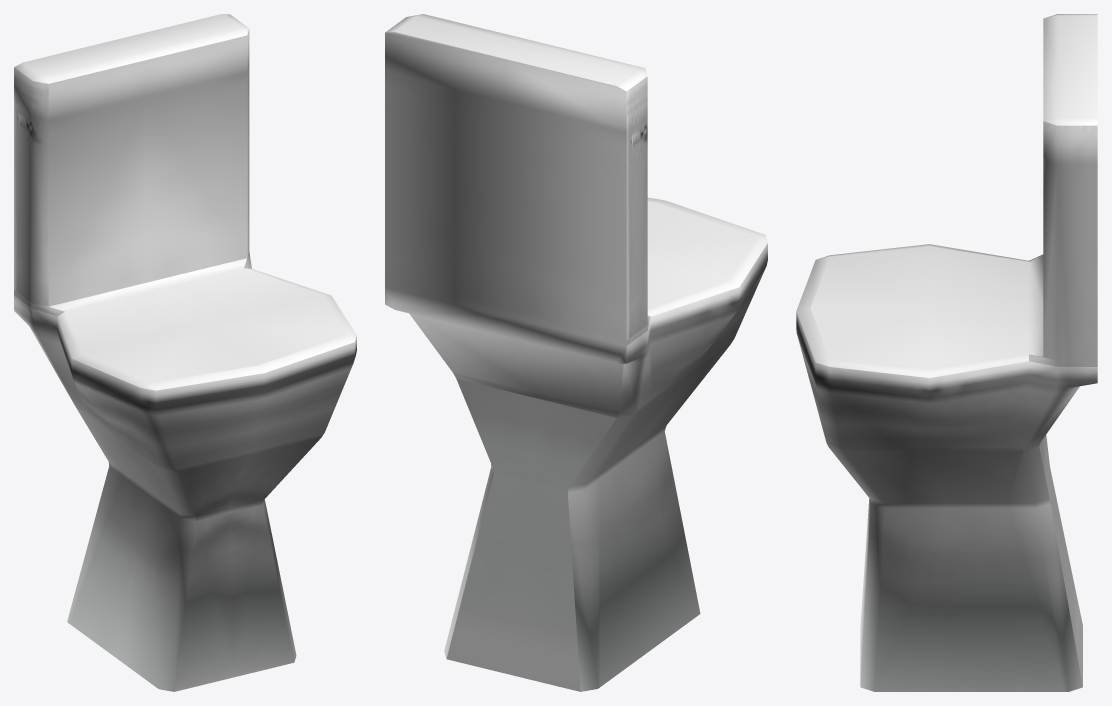
The model's file is toilet.glb.
3 renders of one model, left to right at view 1: azimuth 30°, elevation 25°; view 2: azimuth 150°, elevation 25°; view 3: azimuth 270°, elevation 25°, orthographic. The views are drawn at different scales.
Parts seen in each view (by area): view 1: Toilet; view 2: Toilet; view 3: Toilet.
Part boxes in pixels (x1,y1,x2,y2): Toilet: (14,14,356,691); Toilet: (385,14,767,691); Toilet: (796,14,1097,691).
Bounding box in the file's own units: 0.5449 × 1.12 × 0.5179.
1 material, 1 textured.
